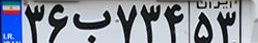character: (70, 1, 113, 43), (113, 1, 140, 43), (45, 1, 71, 43), (138, 1, 164, 43), (162, 1, 187, 43), (22, 1, 46, 43), (214, 9, 239, 43), (193, 11, 215, 43)
